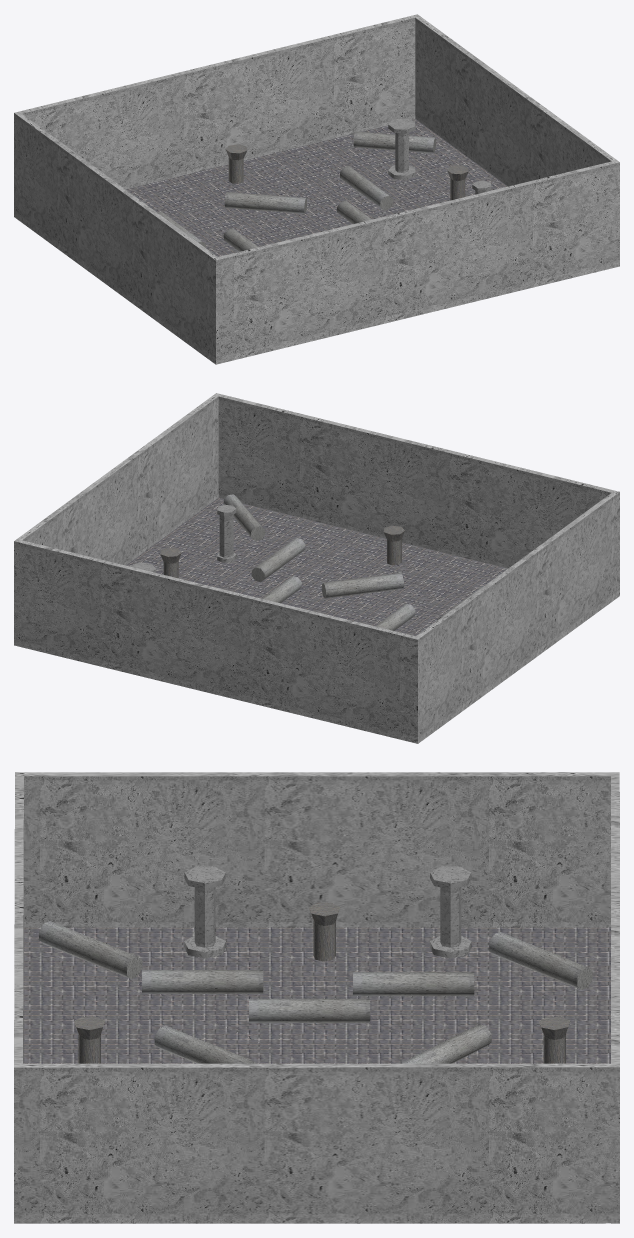
Rendered from StoneAreaBackupincaseitdidntwork.FBX.
3 views of the same model, one above another, from view 1: azimuth 30°, elevation 25°; view 2: azimuth 150°, elevation 25°; view 3: azimuth 270°, elevation 25° (orthographic). The views are drawn at different scales.
Parts seen in each view (by area): view 1: Wall001, Box001, Cylinder034, Cylinder039, Cylinder027, Cylinder026, Cylinder043, Cylinder042; view 2: Wall001, Box001, Cylinder036, Cylinder025, Cylinder038, Cylinder028, Cylinder044, Cylinder029, Cylinder015, Cylinder042; view 3: Wall001, Box001, Cylinder029, Cylinder031, Cylinder030, Cylinder006, Cylinder037, Cylinder032, Cylinder035, Cylinder036, Cylinder034, Cylinder045 (+2 smaller).
Boxes of the visible parts, left/top/right/bottom form: Wall001: left=14, top=14, right=619, bottom=364; Box001: left=126, top=119, right=507, bottom=256; Cylinder034: left=224, top=192, right=306, bottom=213; Cylinder039: left=388, top=118, right=415, bottom=179; Cylinder027: left=353, top=131, right=435, bottom=153; Cylinder026: left=340, top=166, right=393, bottom=210; Cylinder043: left=225, top=144, right=247, bottom=183; Cylinder042: left=447, top=165, right=468, bottom=200; Wall001: left=14, top=393, right=619, bottom=743; Box001: left=126, top=497, right=507, bottom=636; Cylinder036: left=322, top=573, right=403, bottom=598; Cylinder025: left=251, top=538, right=305, bottom=582; Cylinder038: left=217, top=504, right=236, bottom=562; Cylinder028: left=223, top=494, right=264, bottom=540; Cylinder044: left=383, top=525, right=404, bottom=565; Cylinder029: left=375, top=603, right=415, bottom=630; Cylinder015: left=262, top=576, right=301, bottom=603; Cylinder042: left=160, top=547, right=181, bottom=578; Wall001: left=14, top=772, right=619, bottom=1223; Box001: left=23, top=927, right=610, bottom=1063; Cylinder029: left=249, top=998, right=370, bottom=1022; Cylinder031: left=353, top=972, right=474, bottom=996; Cylinder030: left=142, top=970, right=263, bottom=993; Cylinder006: left=429, top=866, right=471, bottom=958; Cylinder037: left=184, top=866, right=226, bottom=958; Cylinder032: left=38, top=921, right=142, bottom=979; Cylinder035: left=489, top=932, right=592, bottom=989; Cylinder036: left=154, top=1025, right=256, bottom=1063; Cylinder034: left=400, top=1024, right=491, bottom=1063; Cylinder045: left=309, top=902, right=340, bottom=961.
Bounding box in the file's own units: 389 × 96 × 338.
5 materials, 5 textured.
